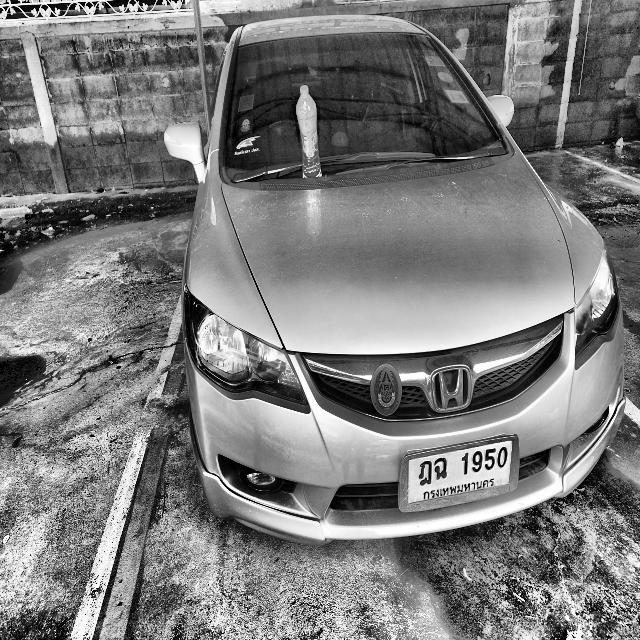license-plate: (395, 431, 523, 519)
